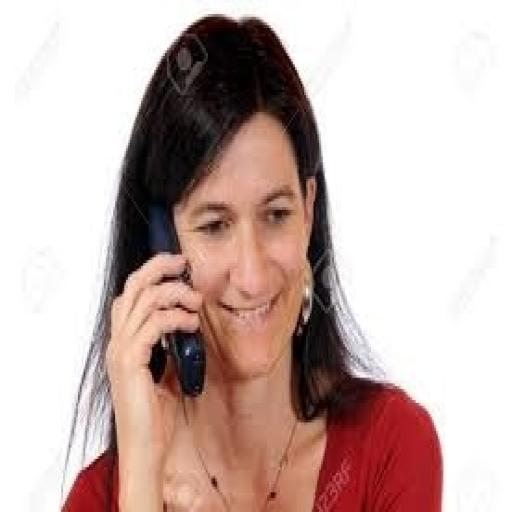calling: (48, 11, 445, 509)
